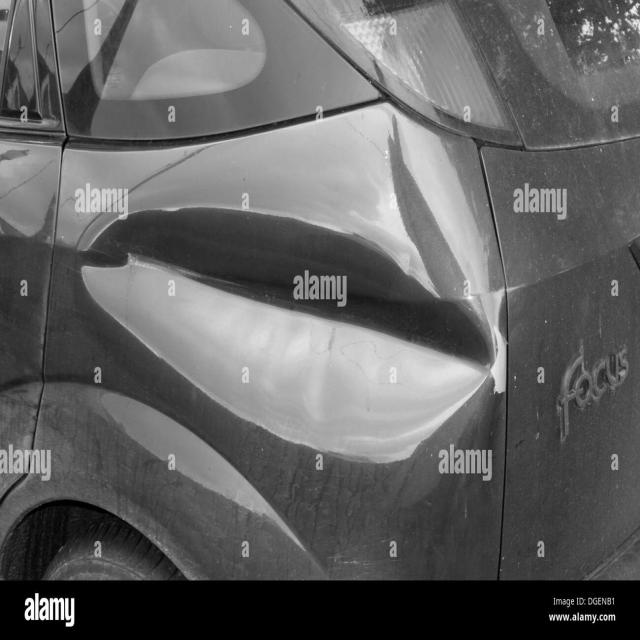dent: (77, 206, 498, 464)
scratch: (324, 535, 405, 568)
